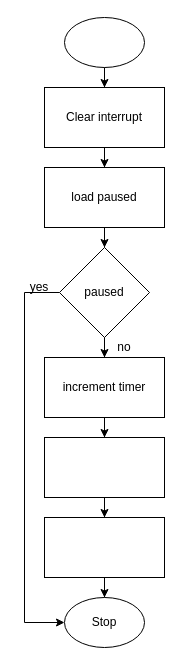
The diagram is 182 pixels wide and 665 high, and some of its shapes have lost their labels. The centre of each missing label's shape, as x and y in pixels:
"put_time" goes at (x=104, y=547).
"Start" goes at (x=104, y=42).
"timer_to_string" goes at (x=104, y=467).
